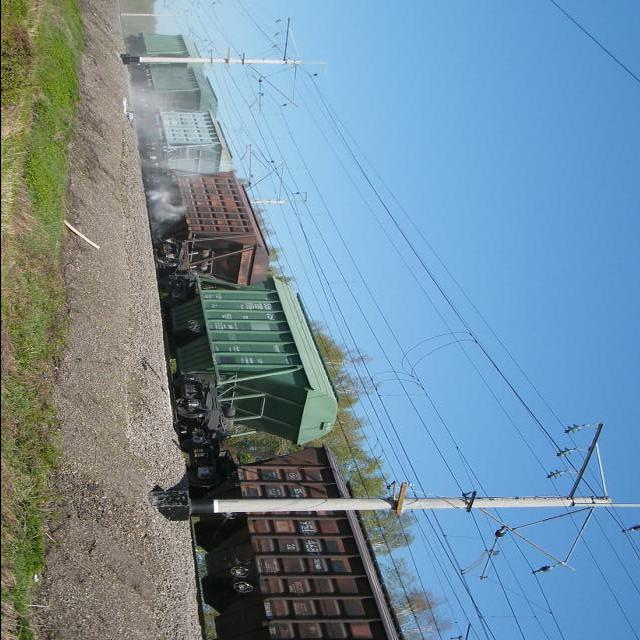wagon: (299, 519, 321, 556), (260, 303, 276, 322)
